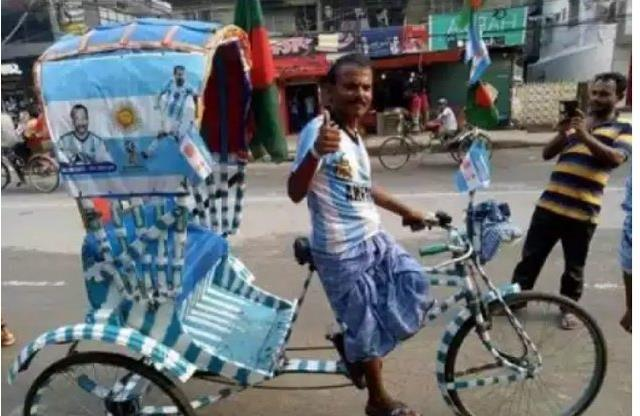Rickshaw: (26, 26, 600, 406)
